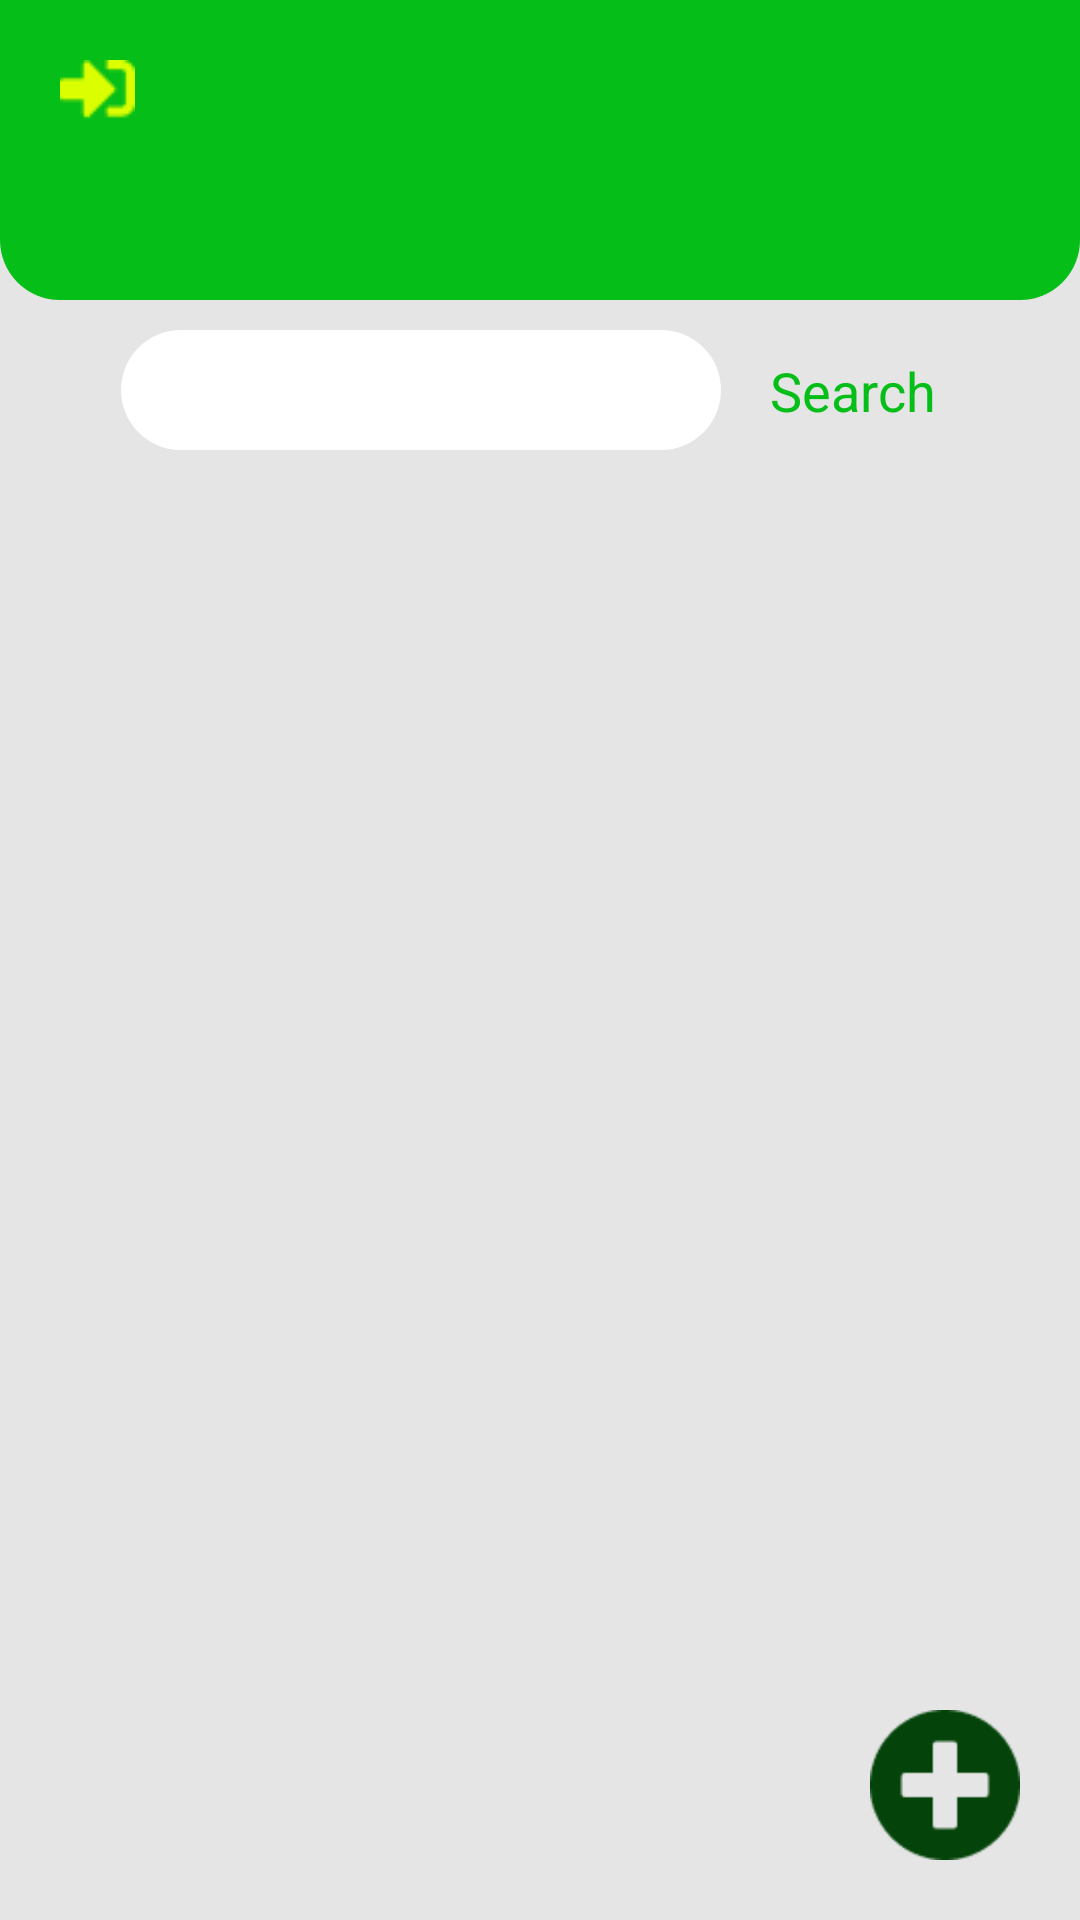

Named icons in this screenshot (1080×1920) and their bounding boxes, (x1, y1, x2, y2):
plus: (870, 1710, 1020, 1860)
